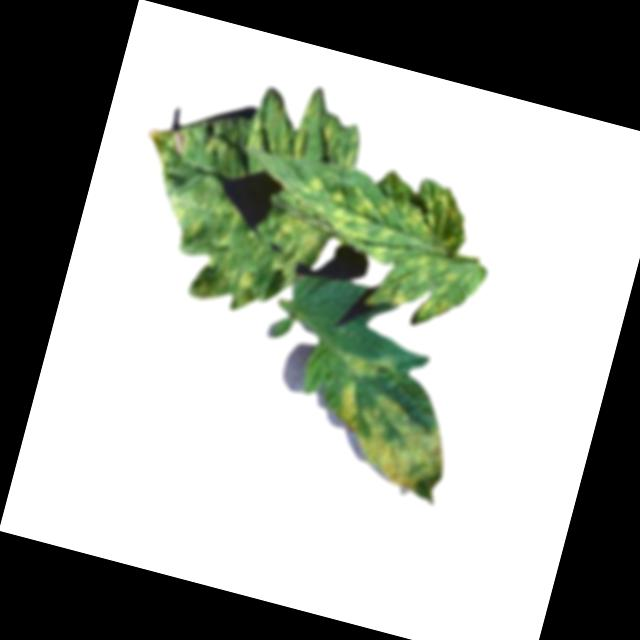Leaf_Mold: (111, 50, 372, 329), (275, 148, 506, 341), (307, 345, 469, 508)
